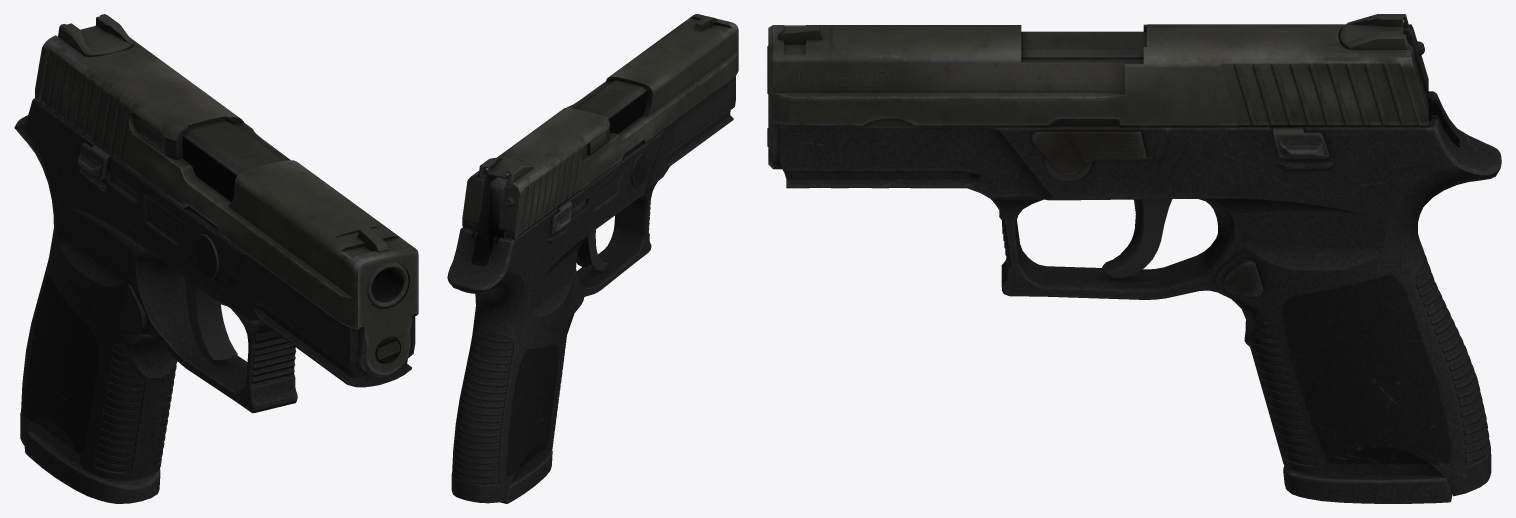
3 renders of one model, left to right at view 1: azimuth 30°, elevation 25°; view 2: azimuth 150°, elevation 25°; view 3: azimuth 270°, elevation 25°, orthographic. The views are drawn at different scales.
Parts seen in each view (by area): view 1: p250; view 2: p250; view 3: p250.
Part boxes in pixels (box(x1,y1,x2,y2)): p250: box(14, 14, 418, 503); p250: box(447, 14, 738, 503); p250: box(767, 14, 1501, 503).
Bounding box in the file's own units: 1.25 × 5.49 × 7.97.
Materials: 1 (1 with a texture image).
